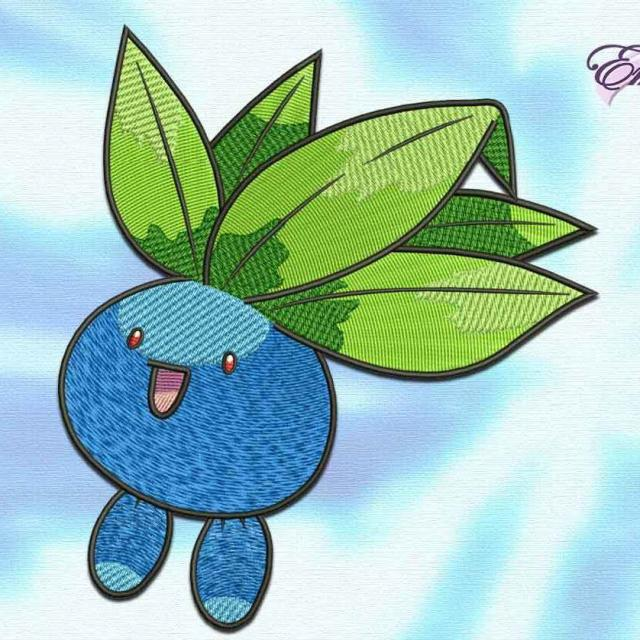Oddish: (56, 52, 395, 597)
